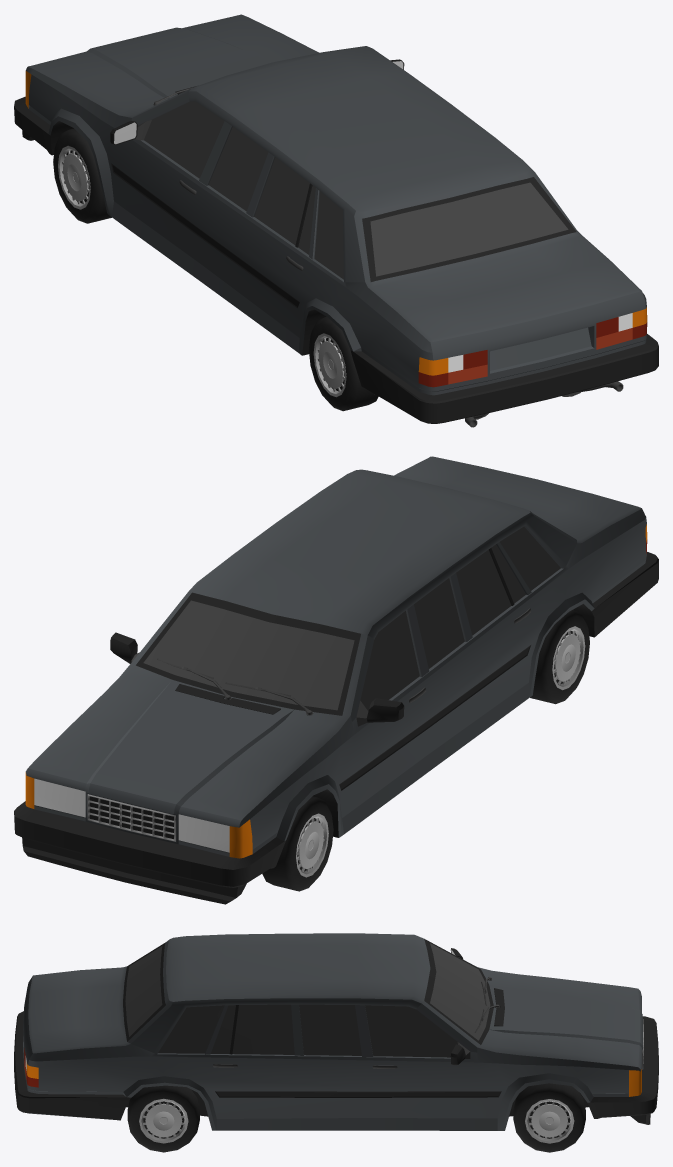
The model's file is m8_long_sedan_charcoal.glb.
3 renders of one model, top to bottom at view 1: azimuth 30°, elevation 25°; view 2: azimuth 150°, elevation 25°; view 3: azimuth 270°, elevation 25°, orthographic. The views are drawn at different scales.
Parts seen in each view (by area): view 1: Body, Wheel_RL, Wheel_FL; view 2: Body, Wheel_FL, Wheel_RL; view 3: Body, Wheel_FR, Wheel_RR.
Part boxes in pixels (bbox=[...]): Body: bbox=[14, 14, 658, 423]; Wheel_RL: bbox=[309, 316, 378, 411]; Wheel_FL: bbox=[53, 128, 111, 223]; Body: bbox=[14, 456, 658, 904]; Wheel_FL: bbox=[262, 796, 333, 891]; Wheel_RL: bbox=[530, 610, 589, 704]; Body: bbox=[14, 933, 658, 1130]; Wheel_FR: bbox=[513, 1083, 585, 1152]; Wheel_RR: bbox=[127, 1085, 199, 1152].
Size of the model in its own units: 2.13 by 1.36 by 5.41.
1 material, 1 textured.
